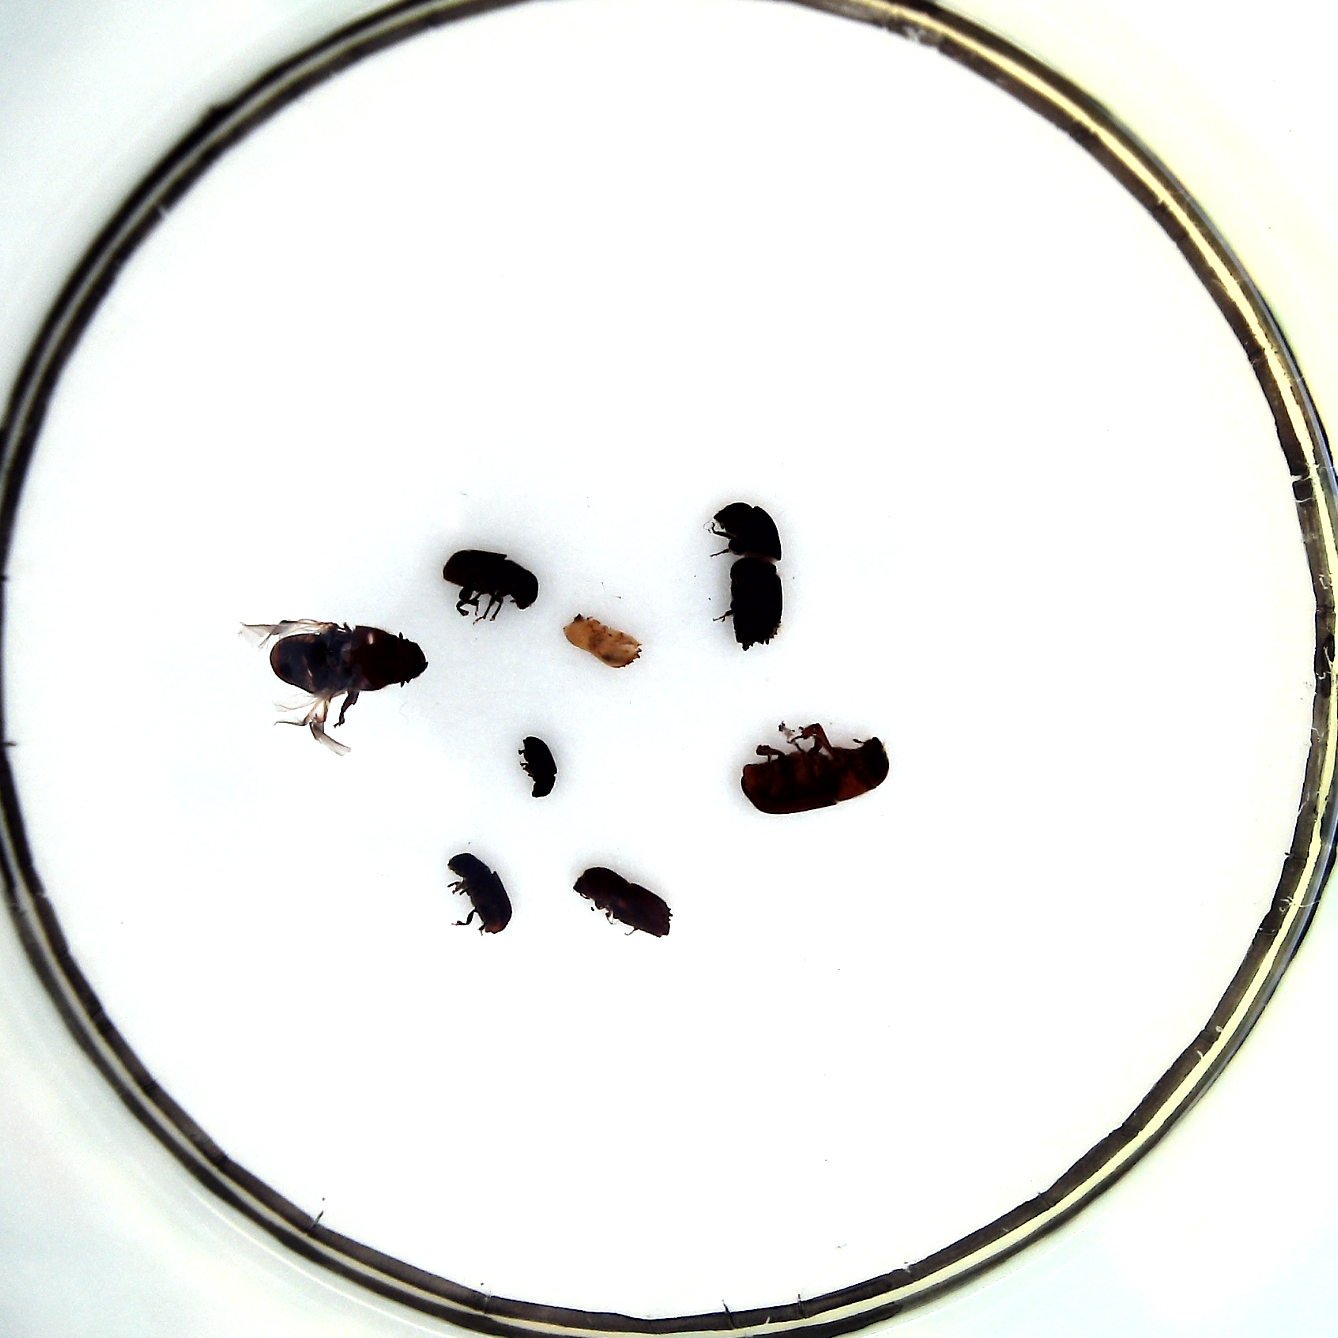Boerner: (711, 504, 783, 652)
Leconte: (739, 720, 890, 811), (270, 625, 426, 702)
acuminatus: (522, 735, 557, 798)
armandi: (444, 549, 538, 622), (446, 852, 513, 937)
coleoptera: (565, 616, 641, 670)
linnaeus: (576, 867, 674, 940)
